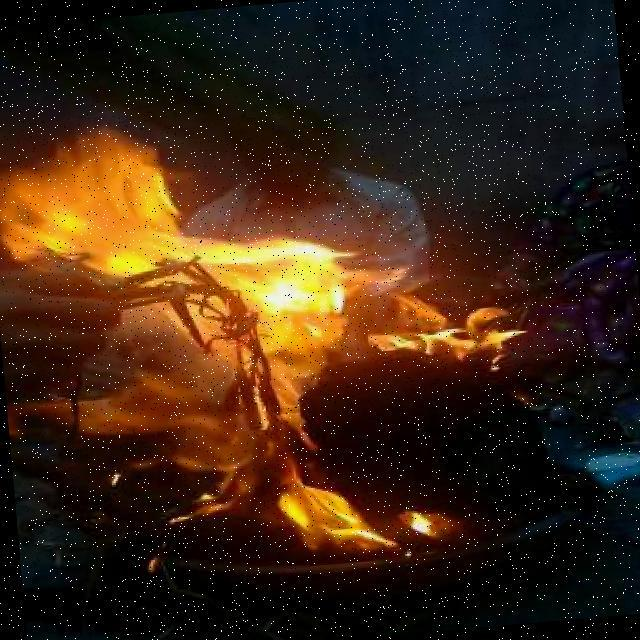Fire: (0, 82, 537, 596)
